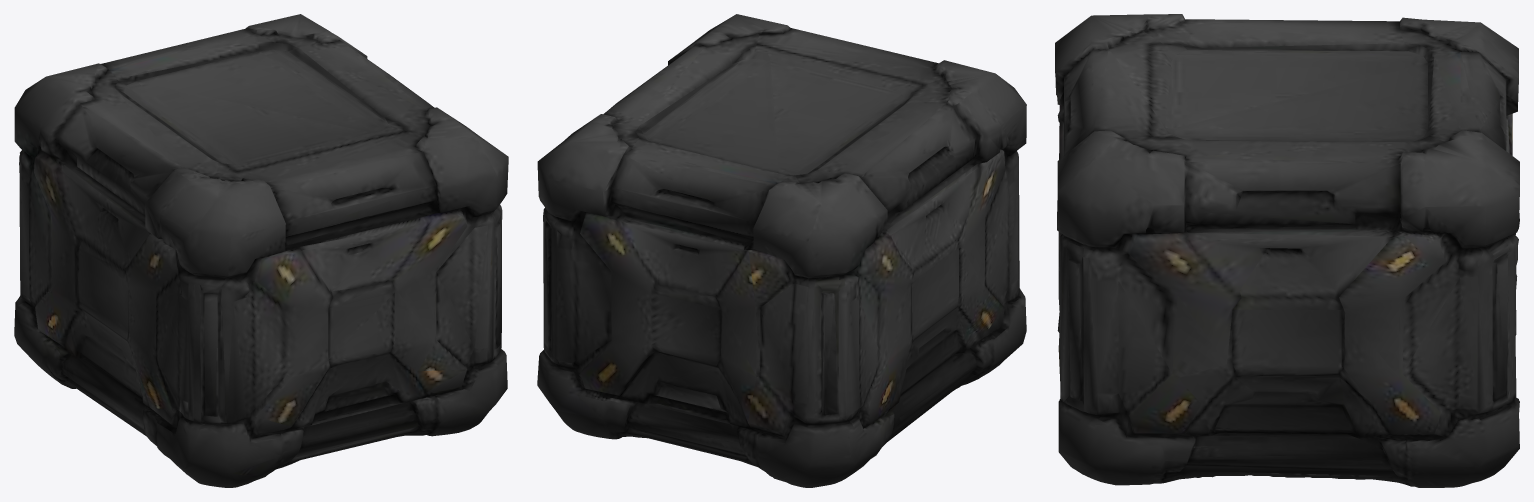
The model's file is prop_scifi_crate.glb.
3 renders of one model, left to right at view 1: azimuth 30°, elevation 25°; view 2: azimuth 150°, elevation 25°; view 3: azimuth 270°, elevation 25°, orthographic. The views are drawn at different scales.
Visible parts, largest first — view 1: tripo_node_600a80a9-9814-4365-9a1f-d7e851570b2b; view 2: tripo_node_600a80a9-9814-4365-9a1f-d7e851570b2b; view 3: tripo_node_600a80a9-9814-4365-9a1f-d7e851570b2b.
Part boxes in pixels (bbox=[...]): tripo_node_600a80a9-9814-4365-9a1f-d7e851570b2b: bbox=[14, 14, 508, 487]; tripo_node_600a80a9-9814-4365-9a1f-d7e851570b2b: bbox=[537, 14, 1026, 487]; tripo_node_600a80a9-9814-4365-9a1f-d7e851570b2b: bbox=[1055, 14, 1519, 487].
Bounding box in the file's own units: 0.8965 × 0.791 × 0.998.
1 material, 1 textured.
